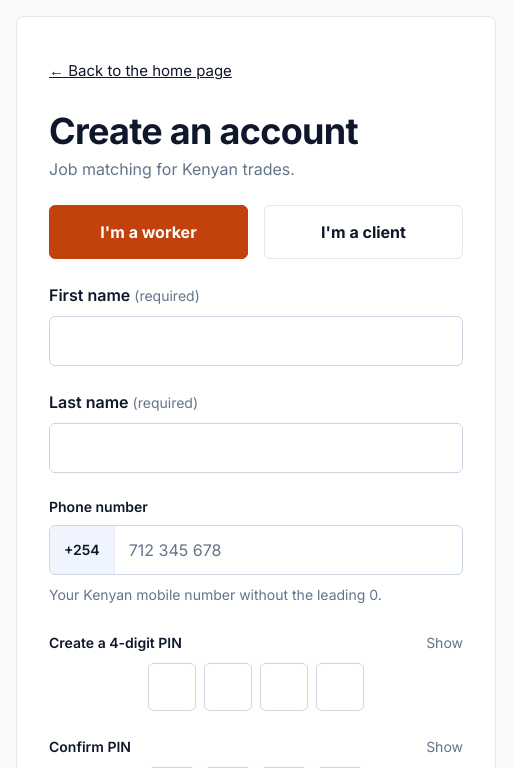
Test: the phone number › shows the digits in blocks of three as they are typed
The image size is (513, 768).
Type "712345678" into the field labelled "Phone number". click: (288, 550)
box: [115,526,462,574]
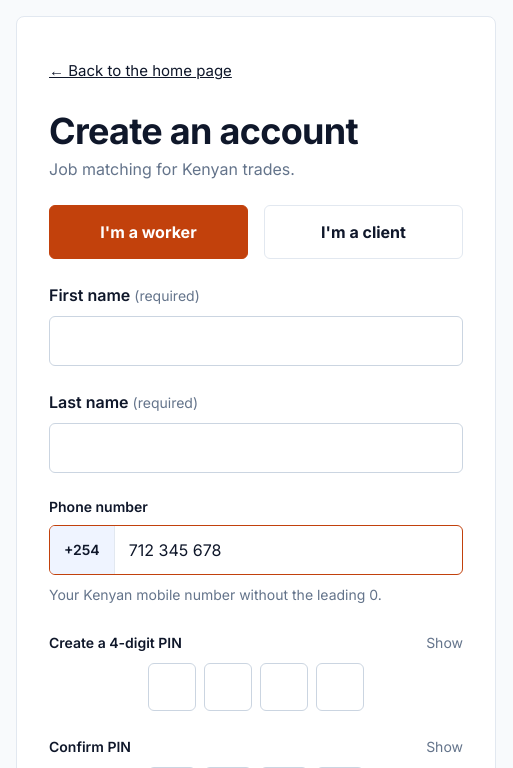
Check: the field labelled "Phone number" holds "712 345 678", box [115,526,462,574]
